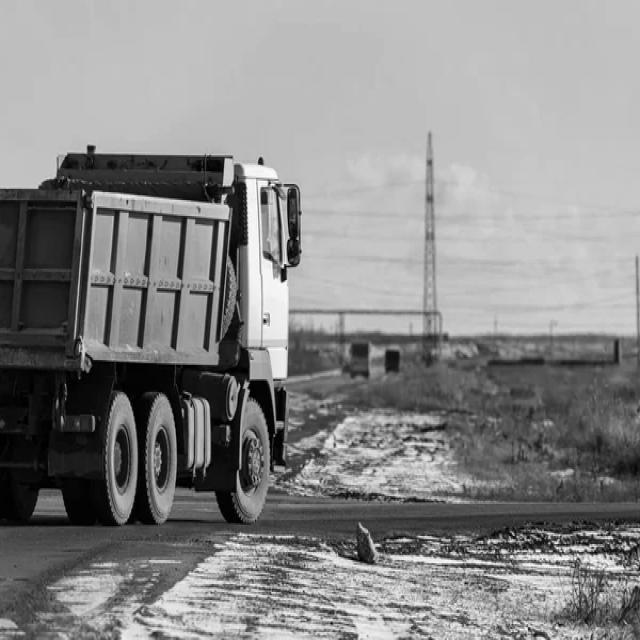Truck: (0, 146, 300, 524)
